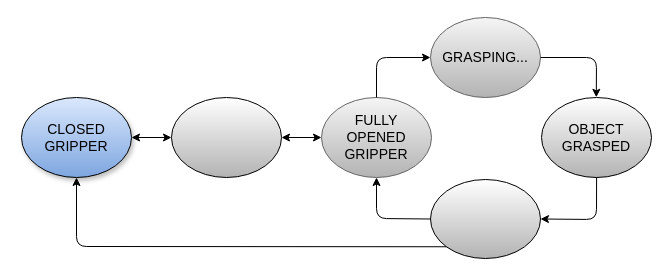
Some shapes in this 669 by 276 pixel diagram are drawn without their labels. Here are the shapes that lost their labels. From the top down, the centre of each, then its label:
point (226, 137): OPENED GRIPPER
point (485, 218): RELEASING...
